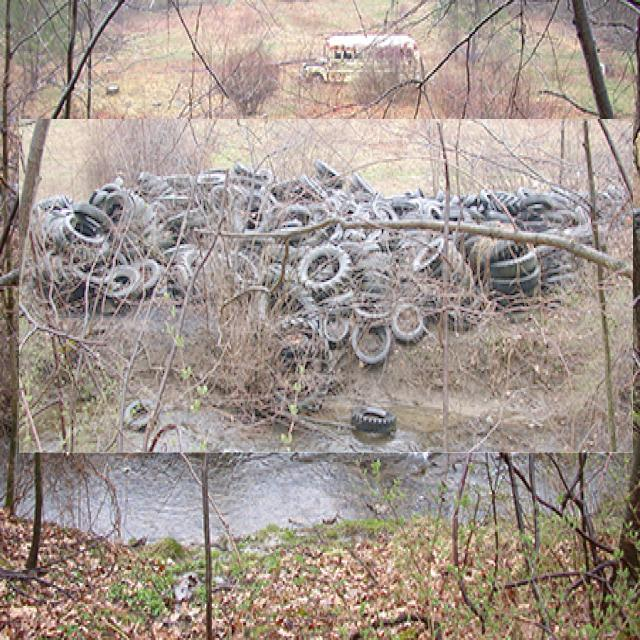dumping: (19, 120, 633, 453)
